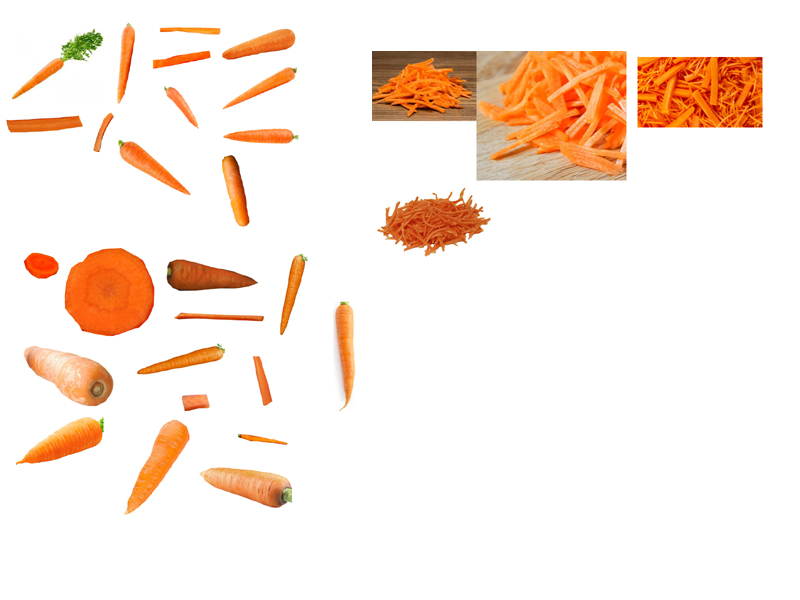carrot: (511, 63, 614, 153), (61, 247, 157, 338), (118, 413, 193, 518), (643, 57, 757, 126), (7, 20, 106, 99), (380, 191, 496, 256), (20, 339, 117, 408), (16, 414, 108, 473), (115, 134, 196, 200), (196, 464, 297, 515), (379, 54, 469, 110), (157, 253, 263, 298), (329, 294, 369, 410), (132, 335, 225, 375), (223, 66, 307, 109), (215, 24, 300, 62), (275, 244, 306, 345), (105, 14, 137, 105), (217, 120, 305, 151), (221, 153, 257, 226), (161, 83, 199, 136), (176, 304, 267, 326), (150, 13, 225, 39), (237, 423, 291, 457), (247, 346, 278, 405), (6, 114, 87, 136), (151, 45, 211, 72), (19, 250, 60, 283), (177, 386, 212, 414), (95, 109, 116, 154)
